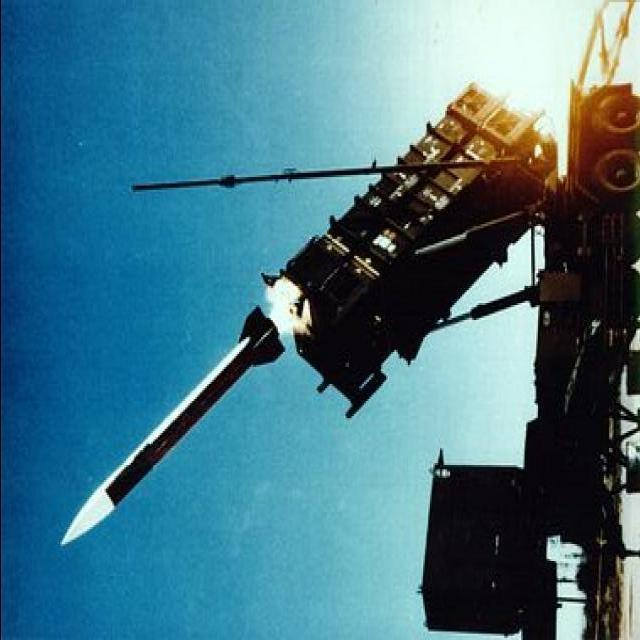Missile: (49, 307, 289, 556)
